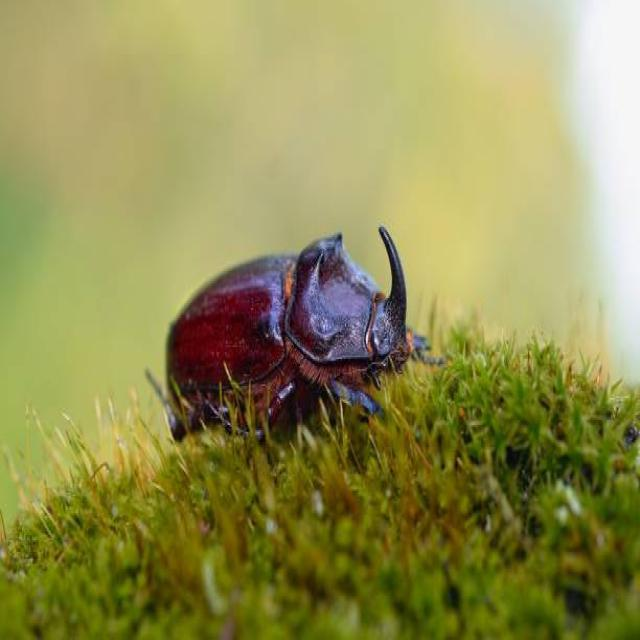Rhino-beetle: (152, 225, 438, 426)
